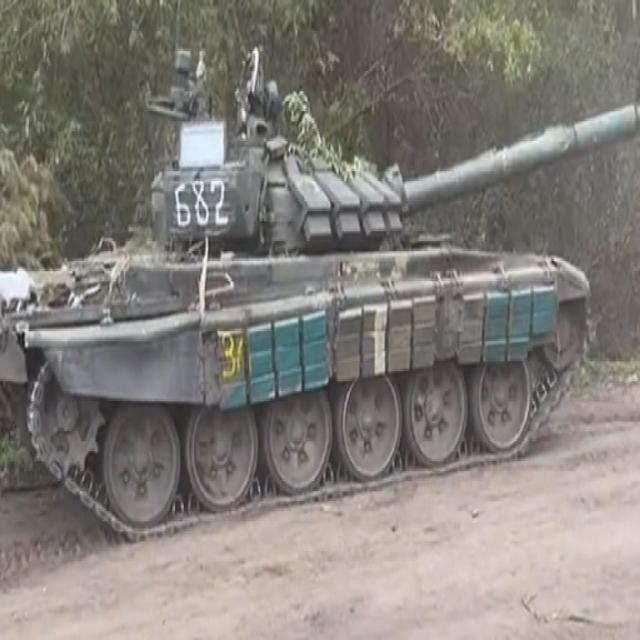TANK: (1, 47, 632, 540)
